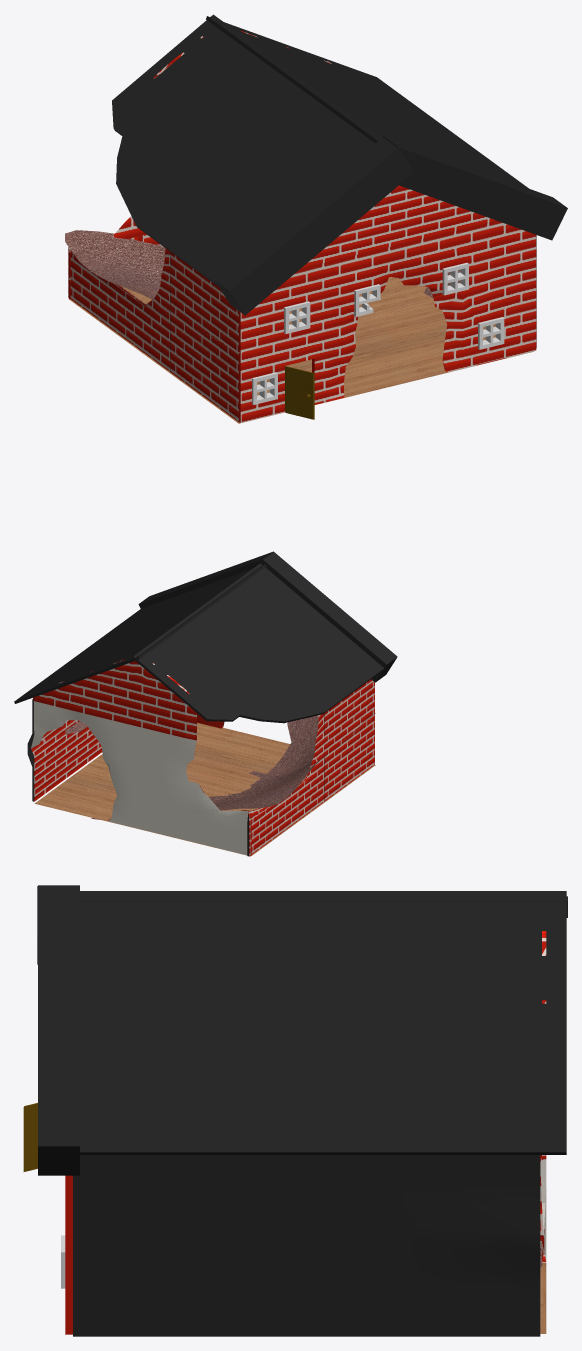
Rendered from Brick house.fbx.
3 views of the same model, one above another, from view 1: azimuth 30°, elevation 25°; view 2: azimuth 150°, elevation 25°; view 3: azimuth 270°, elevation 25° (orthographic). The views are drawn at different scales.
Parts seen in each view (by area): view 1: pCube28, polySurface1, pCube29, pCube26, pCube1, pCube10, pSphere2, pCube25, pCube9, pCube19, pCube16, pCube8 (+1 smaller); view 2: pCube28, pCube25, pCube1, pCube26, pCube29, pCube10; view 3: pCube29, pCube25, pCube28, polySurface1, pSphere2.
Part boxes in pixels (x1,y1,x2,y2): pCube28: (112,14,413,315); polySurface1: (239,185,536,422); pCube29: (206,16,567,240); pCube26: (68,247,239,422); pCube1: (69,277,533,423); pCube10: (65,230,460,352); pSphere2: (285,366,314,419); pCube25: (68,31,536,347); pCube9: (478,317,504,349); pCube19: (284,301,310,333); pCube16: (442,262,468,295); pCube8: (252,372,277,404); pCube28: (132,552,397,723); pCube25: (27,659,251,855); pCube1: (34,723,375,856); pCube26: (247,679,374,856); pCube29: (14,551,273,703); pCube10: (65,713,375,820); pCube29: (38,885,566,1175); pCube25: (73,931,546,1336); pCube28: (37,886,567,964); polySurface1: (65,1175,72,1334); pSphere2: (23,1103,37,1171).
Size of the model in its own units: 22.85 by 10.61 by 13.85.
Materials: 13 (6 with a texture image).
